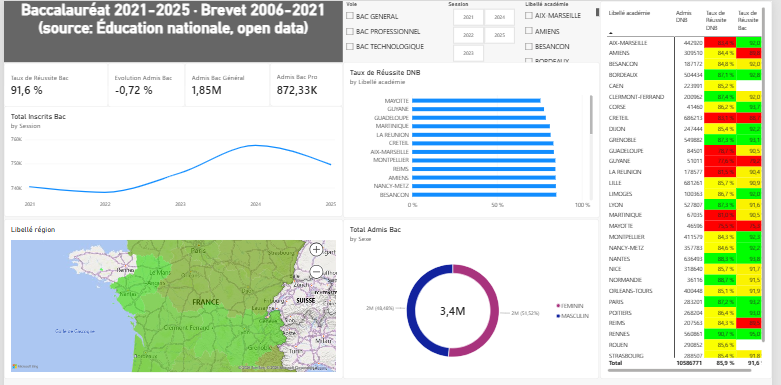

What the dashboard file says about the page in this screenshot:
{"tool":"powerbi","page":{"name":"Page 1","canvas":[1920,1080],"ordinal":0},"visuals":[{"type":"cardVisual","fields":{"Data":["Mesures.Taux de Réussite Bac"]},"box":[0,154,260,110],"z":0},{"type":"cardVisual","fields":{"Data":["Mesures.Admis Bac Général"]},"box":[452,154,212,110],"z":1000},{"type":"cardVisual","fields":{"Data":["Mesures.Admis Bac Pro"]},"box":[664,154,182,108],"z":2000},{"type":"clusteredBarChart","fields":{"Category":["Academies.Libellé académie"],"Y":["Mesures.Taux de Réussite DNB"]},"box":[846.7,153.3,641.7,390],"z":3000},{"type":"lineChart","fields":{"Category":["Baccalaureat.Session"],"Y":["Mesures.Total Inscrits Bac"]},"box":[0,263.3,846.7,276.7],"z":4000},{"type":"filledMap","fields":{"Category":["DNB.Libellé région"]},"box":[0,544,848,400],"z":5000},{"type":"textbox","title":"Baccalauréat 2021-2025 · Brevet 2006-2021 (source: Éducation nationale, open data)","box":[0,0,847.1,152.9],"z":6000},{"type":"slicer","fields":{"Values":["Academies.Libellé académie"]},"box":[1295,0,193.3,153.3],"z":7000},{"type":"slicer","fields":{"Values":["Baccalaureat.Voie"]},"box":[846.7,0,255,153],"z":8000},{"type":"slicer","fields":{"Values":["Baccalaureat.Session"]},"box":[1101.7,0,193.3,153.3],"z":9000},{"type":"cardVisual","fields":{"Data":["Mesures.Evolution Admis Bac"]},"box":[260,154,192.9,110],"z":10000},{"type":"donutChart","fields":{"Category":["Baccalaureat.Sexe","Baccalaureat.Série"],"Y":["Mesures.Total Admis Bac"]},"box":[848,544,640,400],"z":11000},{"type":"pivotTable","fields":{"Rows":["Academies.Libellé académie"],"Values":["Sum(DNB.Admis)","Mesures.Taux de Réussite DNB","Mesures.Taux de Réussite Bac"]},"box":[1490,0,430,945],"z":12000}]}

Visuals, with their boxes on the page's 1920x1080 design canvas (x1, y1, x2, y2). These are canvas units, not pixel positions in the 781x385 screenshot, which may show the page scaled, cropped or inside an application window:
cardVisual - Mesures.Taux de Réussite Bac: detection(0, 154, 260, 264)
cardVisual - Mesures.Admis Bac Général: detection(452, 154, 664, 264)
cardVisual - Mesures.Admis Bac Pro: detection(664, 154, 846, 262)
clusteredBarChart - Academies.Libellé académie x Mesures.Taux de Réussite DNB: detection(847, 153, 1488, 543)
lineChart - Baccalaureat.Session x Mesures.Total Inscrits Bac: detection(0, 263, 847, 540)
filledMap - DNB.Libellé région: detection(0, 544, 848, 944)
"Baccalauréat 2021-2025 · Brevet 2006-2021 (source: Éducation nationale, open data)" textbox: detection(0, 0, 847, 153)
slicer - Academies.Libellé académie: detection(1295, 0, 1488, 153)
slicer - Baccalaureat.Voie: detection(847, 0, 1102, 153)
slicer - Baccalaureat.Session: detection(1102, 0, 1295, 153)
cardVisual - Mesures.Evolution Admis Bac: detection(260, 154, 453, 264)
donutChart - Baccalaureat.Sexe x Baccalaureat.Série: detection(848, 544, 1488, 944)
pivotTable - Academies.Libellé académie x Sum(DNB.Admis): detection(1490, 0, 1920, 945)
